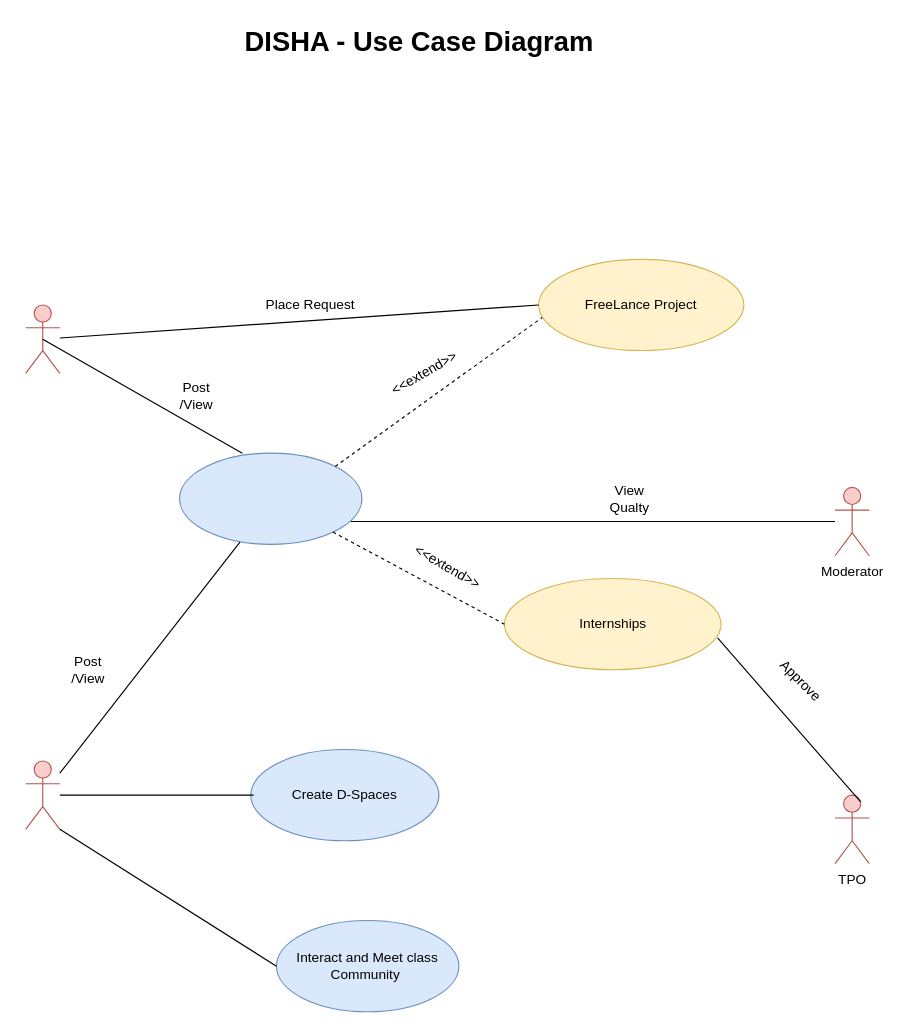
The diagram is 903 pixels wide and 1032 high, and some of its shapes have lost their labels. The shapes that lost their labels are listed below. From the top down, each one's box as (x1, y1, x2, y2) in pixels, then its label:
(25, 304, 60, 373): Student
(178, 452, 362, 544): Announcements
(25, 760, 60, 829): Alumni
